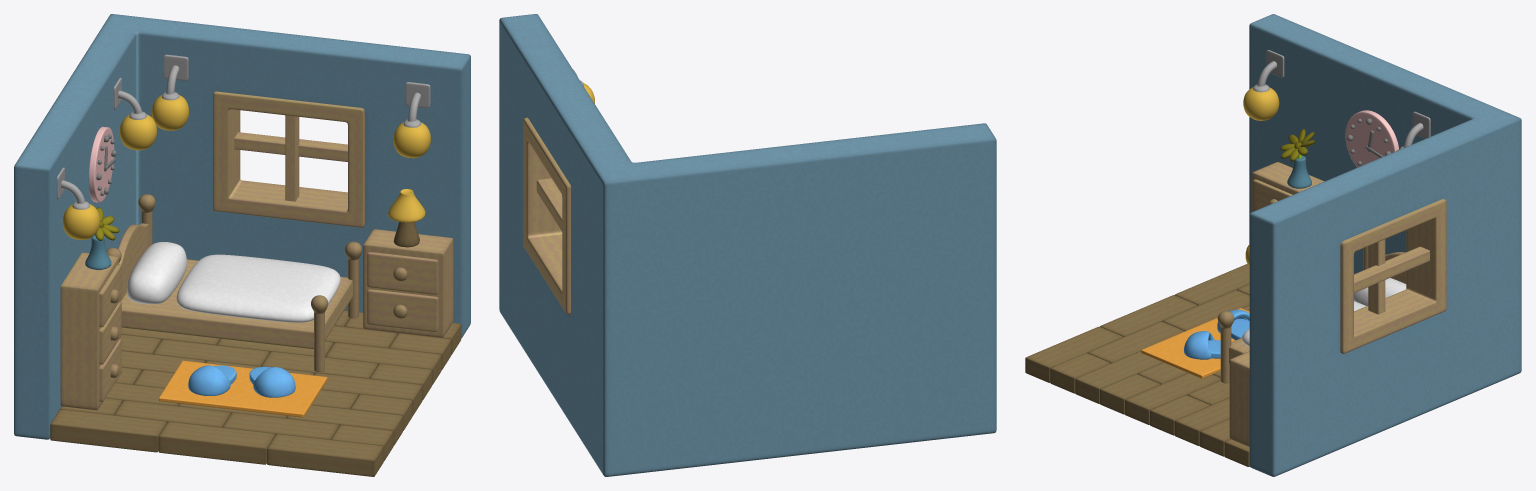
The model's file is Isometric Room.obj.
The picture shows the model from 3 angles, left to right: view 1: azimuth 30°, elevation 25°; view 2: azimuth 150°, elevation 25°; view 3: azimuth 270°, elevation 25°; orthographic projection. The views are drawn at different scales.
Parts seen in each view (by area): view 1: Isometric_Room_Cube.002; view 2: Isometric_Room_Cube.002; view 3: Isometric_Room_Cube.002.
Boxes of the visible parts, x1,y1,x2,y2 form: Isometric_Room_Cube.002: (14, 14, 470, 476); Isometric_Room_Cube.002: (499, 14, 996, 476); Isometric_Room_Cube.002: (1025, 14, 1521, 476).
Size of the model in its own units: 2.82 by 1.6 by 2.82.
1 material, 1 textured.
